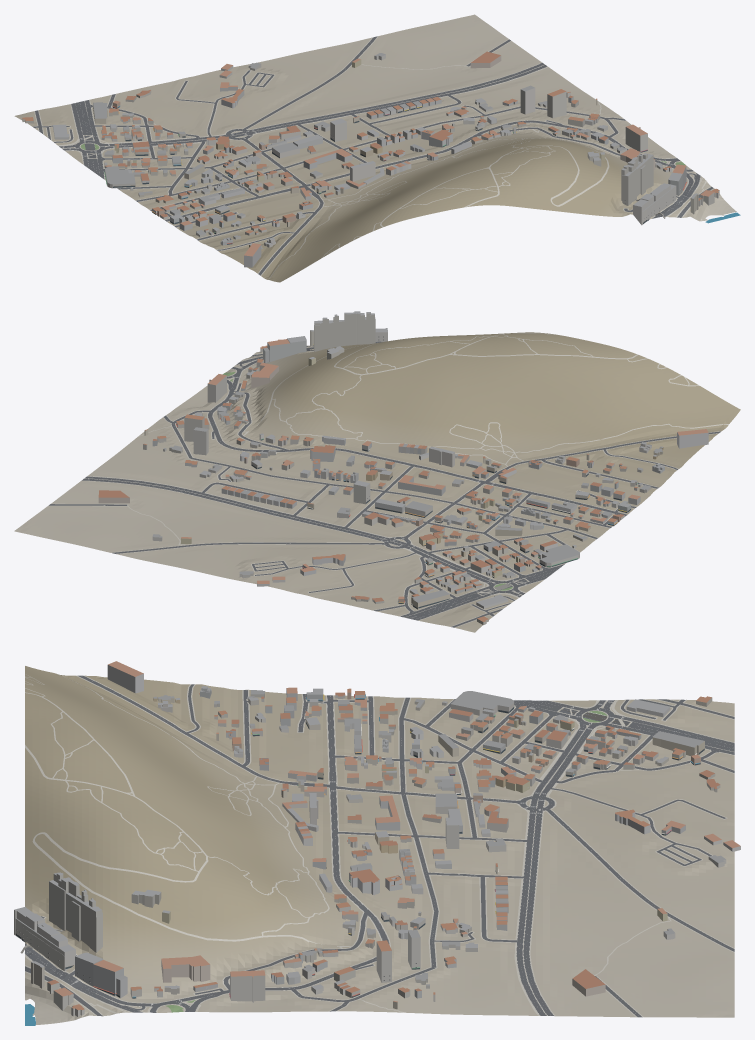
3 renders of one model, top to bottom at view 1: azimuth 30°, elevation 25°; view 2: azimuth 150°, elevation 25°; view 3: azimuth 270°, elevation 25°, orthographic. The views are drawn at different scales.
Parts seen in each view (by area): view 1: Ground, Walls, Roofs, Road, Sidewalk, Detail; view 2: Ground, Walls, Sidewalk, Road, Roofs, Detail; view 3: Ground, Walls, Road, Roofs, Sidewalk, Detail, Marks.
Part boxes in pixels (<box>): Ground: <box>14,14,736,282</box>; Walls: <box>22,54,719,267</box>; Roofs: <box>22,51,719,256</box>; Road: <box>32,36,713,275</box>; Sidewalk: <box>32,36,713,279</box>; Detail: <box>93,88,686,244</box>; Ground: <box>15,332,740,632</box>; Walls: <box>98,313,708,624</box>; Sidewalk: <box>14,333,728,627</box>; Road: <box>49,341,720,627</box>; Roofs: <box>98,311,708,621</box>; Detail: <box>176,336,637,609</box>; Ground: <box>25,666,734,1024</box>; Walls: <box>14,665,740,1016</box>; Road: <box>25,675,734,1017</box>; Roofs: <box>14,661,740,1010</box>; Sidewalk: <box>25,674,734,1017</box>; Detail: <box>15,693,704,998</box>; Marks: <box>23,681,726,1015</box>.
Size of the model in its own units: 1015 by 162 by 1025.
